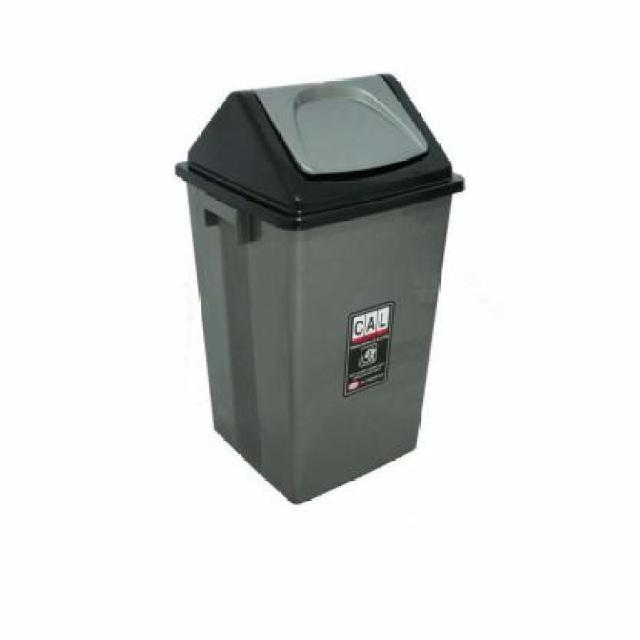garbage container: (173, 66, 475, 523)
